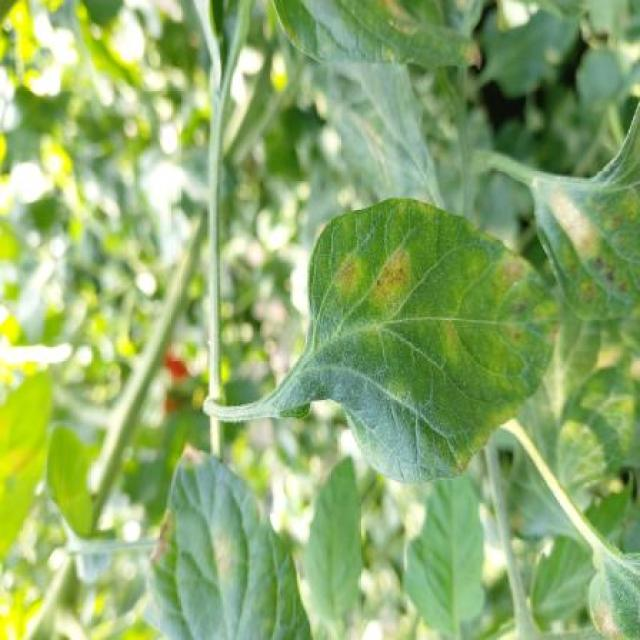Leaf Mold: (305, 196, 561, 484), (136, 440, 311, 640)
